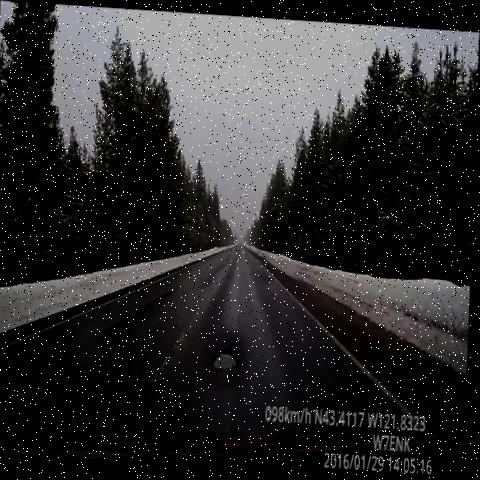pothole: (207, 326, 251, 385)
